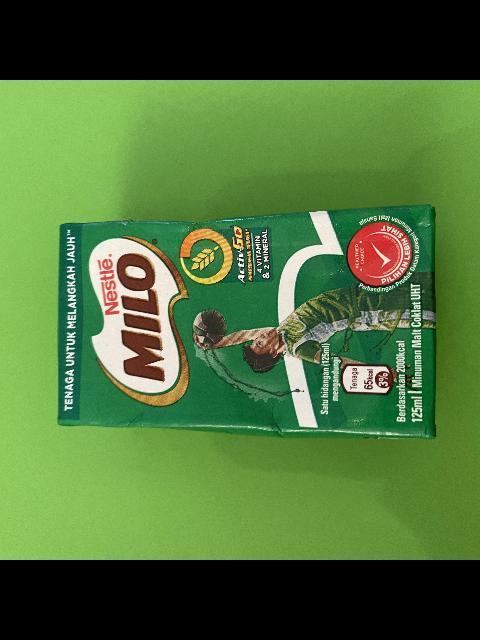drinkpack: (47, 202, 438, 442)
